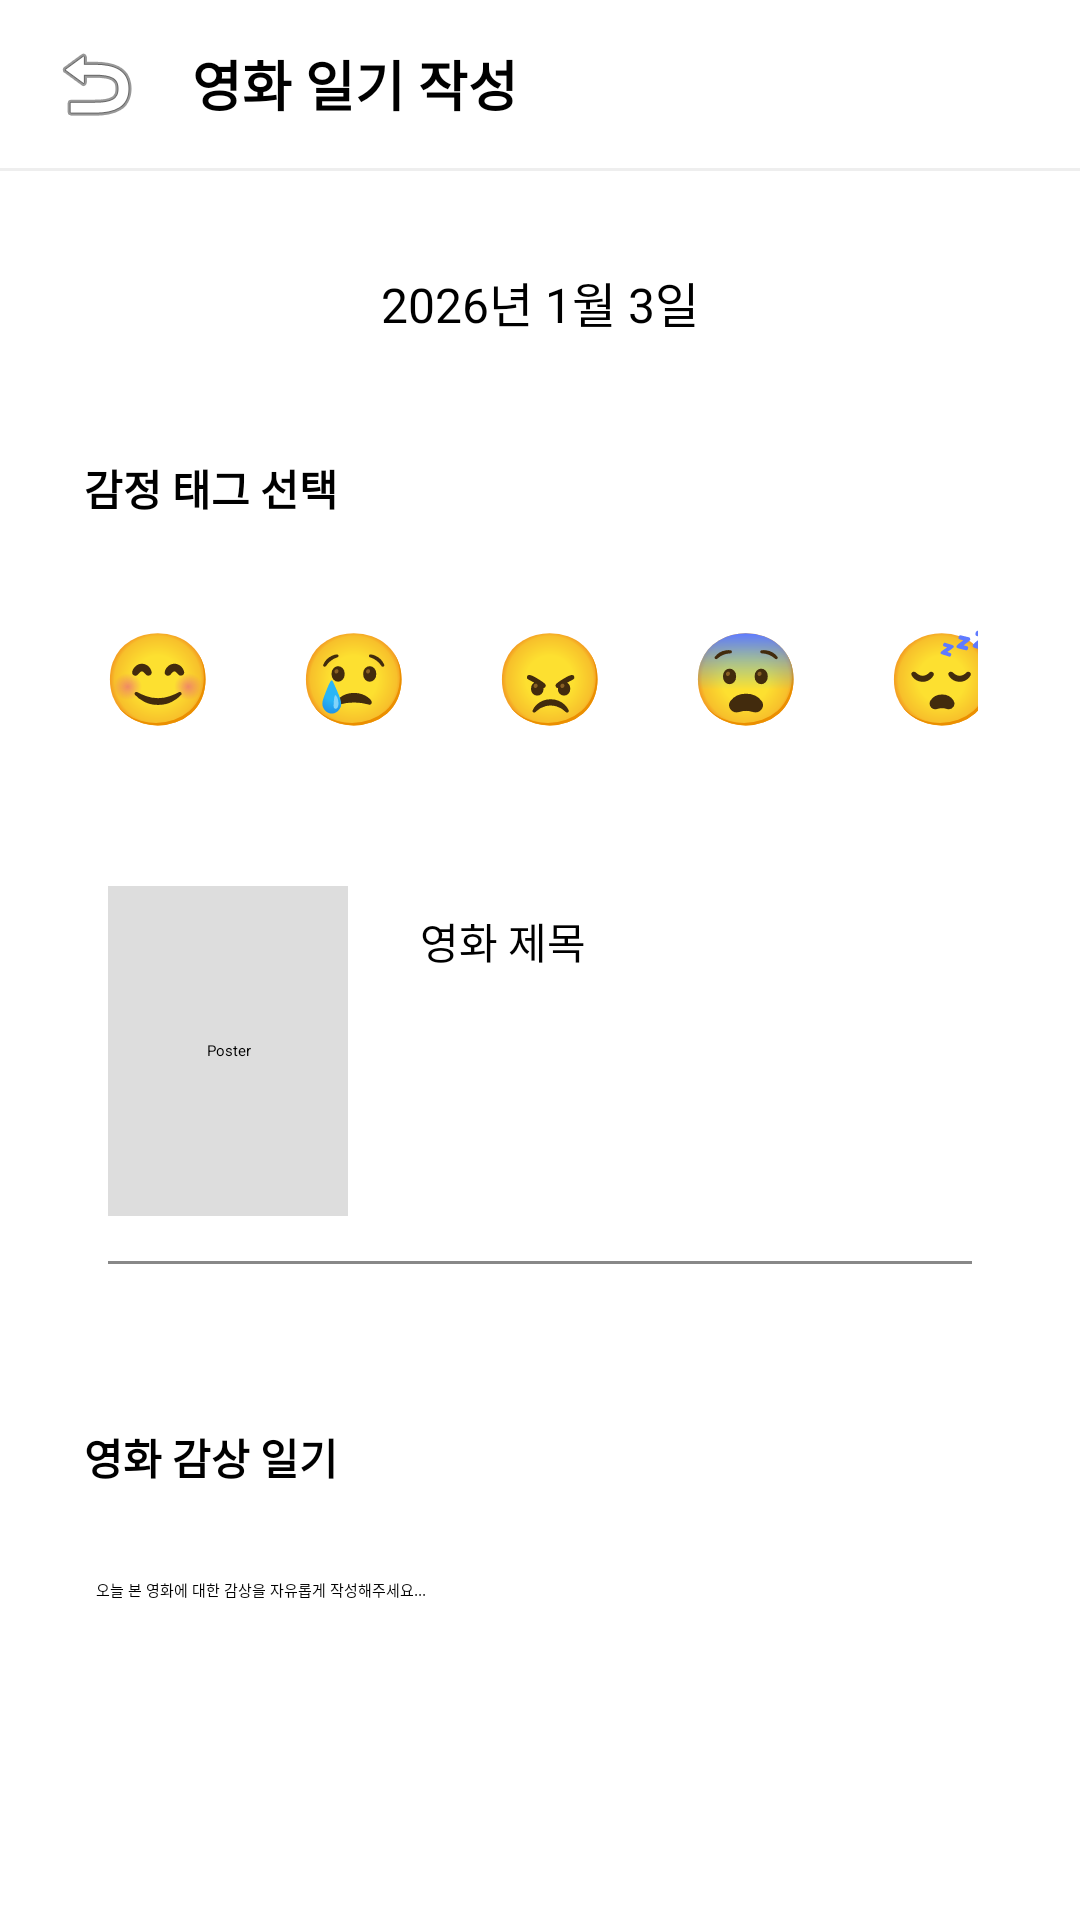

Icons on this 1080x1920 Android screen, each with its box as (x1, y1, x2, y2):
revert: (63, 53, 132, 116)
